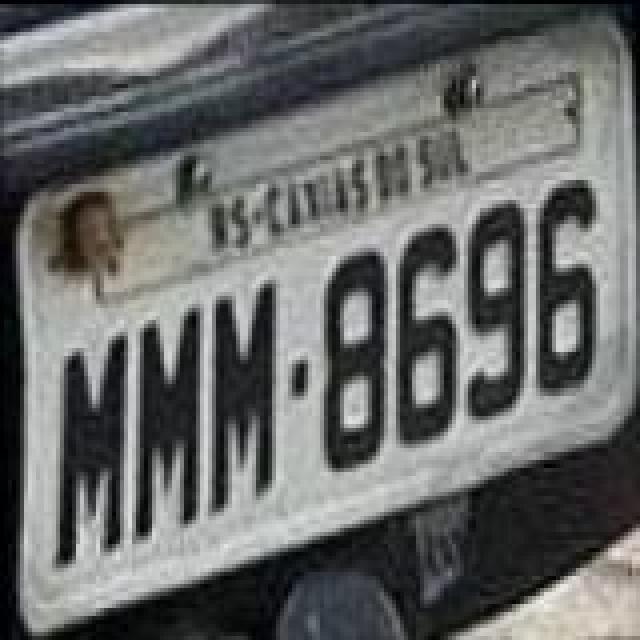6: (388, 220, 464, 452), (532, 178, 608, 398)
8: (316, 246, 392, 478)
9: (462, 198, 534, 422)
M: (50, 332, 134, 572), (126, 302, 202, 542), (206, 280, 282, 520)
